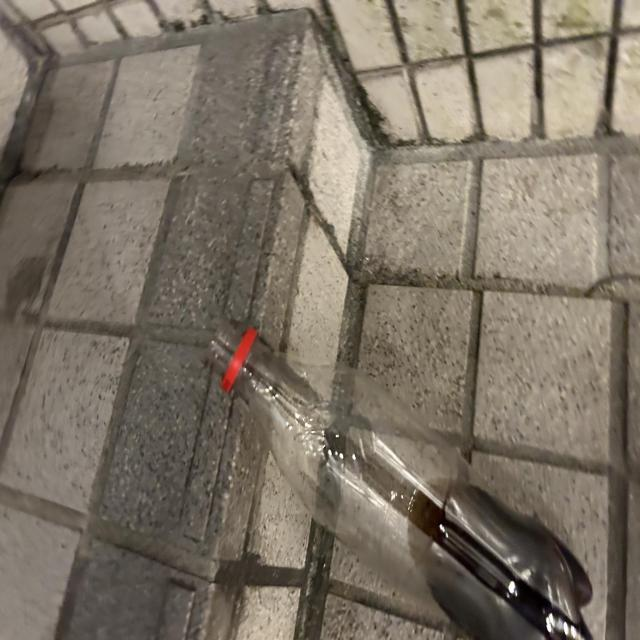low: (208, 323, 592, 640)
